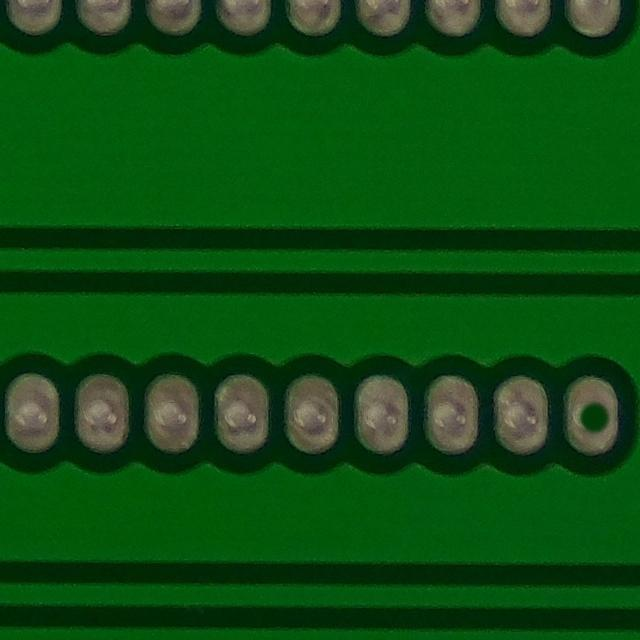missing_hole: (552, 366, 635, 464)
